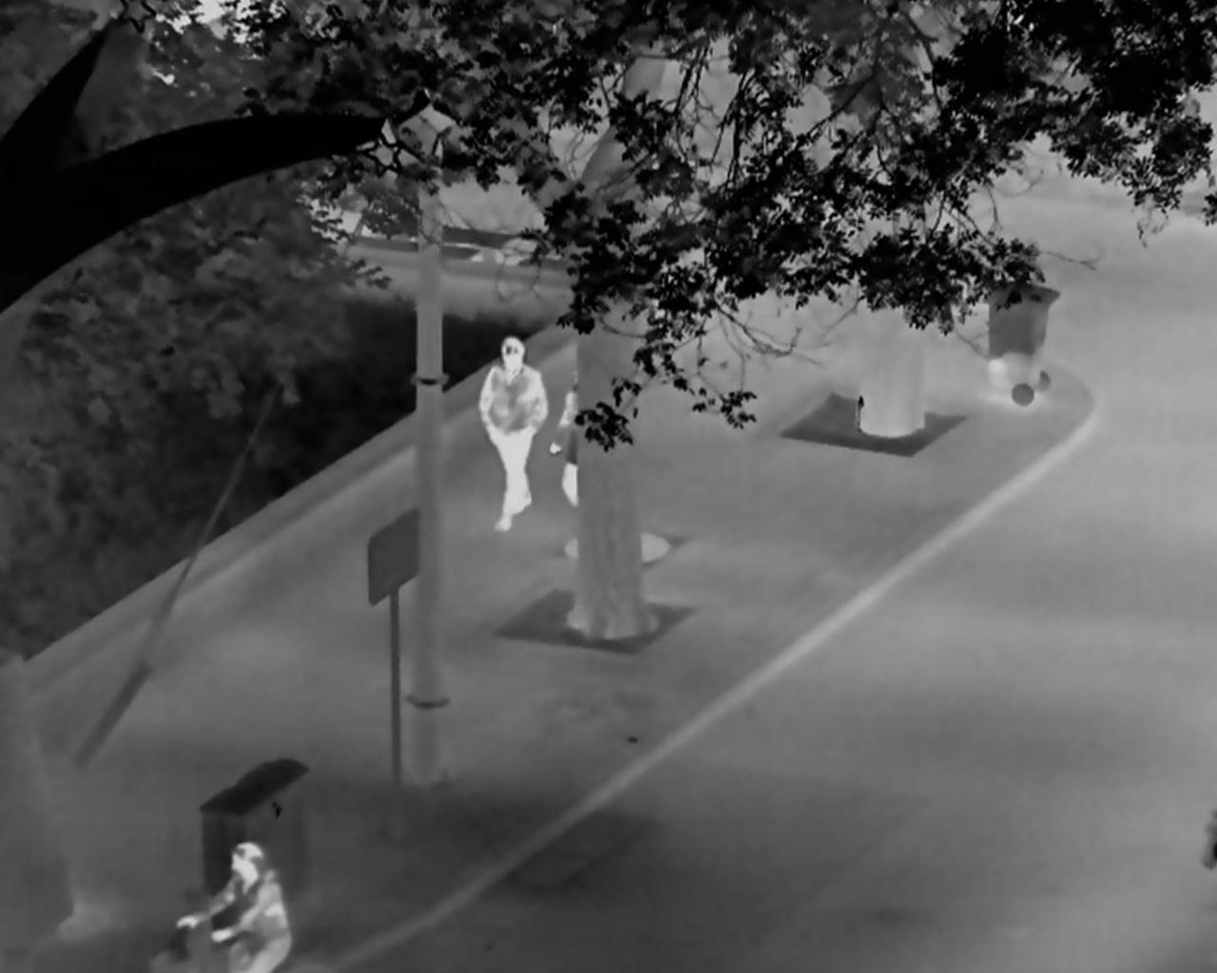person: (175, 842, 294, 973), (476, 334, 551, 531), (549, 365, 579, 509)
